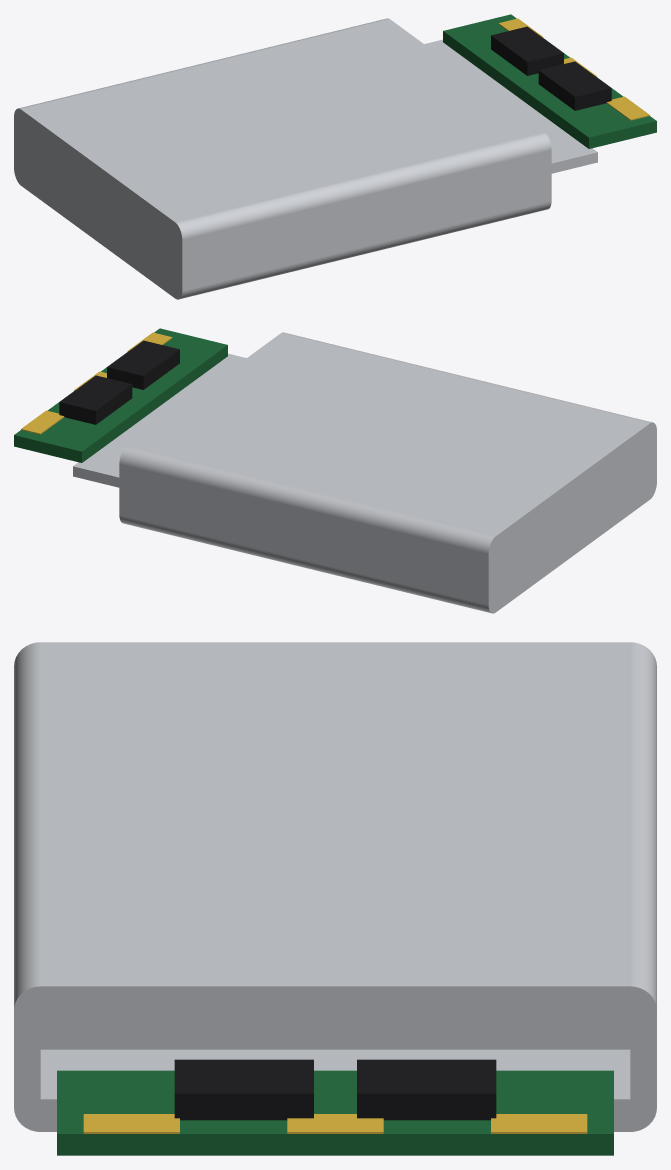
Rendered from battery_lipo_3x12x20.glb.
3 renders of one model, top to bottom at view 1: azimuth 30°, elevation 25°; view 2: azimuth 150°, elevation 25°; view 3: azimuth 270°, elevation 25°, orthographic. The views are drawn at different scales.
Parts seen in each view (by area): view 1: cell, pcm, seal, pcm_ic1, pcm_ic2, pcm_pad1; view 2: cell, pcm, seal, pcm_ic2, pcm_ic1, pcm_pad3; view 3: cell, pcm, seal, pcm_ic1, pcm_ic2, pcm_pad1, pcm_pad3, pcm_pad2.
Part boxes in pixels (left/top/right/bottom): cell: left=14, top=18, right=551, bottom=299; pcm: left=443, top=14, right=656, bottom=148; seal: left=424, top=39, right=597, bottom=173; pcm_ic1: left=538, top=61, right=611, bottom=110; pcm_ic2: left=491, top=26, right=563, bottom=75; pcm_pad1: left=606, top=96, right=649, bottom=120; cell: left=119, top=332, right=656, bottom=613; pcm: left=14, top=328, right=227, bottom=462; seal: left=73, top=353, right=246, bottom=487; pcm_ic2: left=59, top=375, right=132, bottom=424; pcm_ic1: left=107, top=340, right=179, bottom=389; pcm_pad3: left=21, top=410, right=64, bottom=434; cell: left=14, top=642, right=656, bottom=1131; pcm: left=57, top=1070, right=613, bottom=1155; seal: left=40, top=1049, right=630, bottom=1118; pcm_ic1: left=174, top=1059, right=313, bottom=1120; pcm_ic2: left=357, top=1059, right=496, bottom=1120; pcm_pad1: left=83, top=1114, right=179, bottom=1133; pcm_pad3: left=491, top=1114, right=587, bottom=1133; pcm_pad2: left=287, top=1114, right=383, bottom=1133.
Size of the model in its own units: 0.02 by 0.003 by 0.012.
